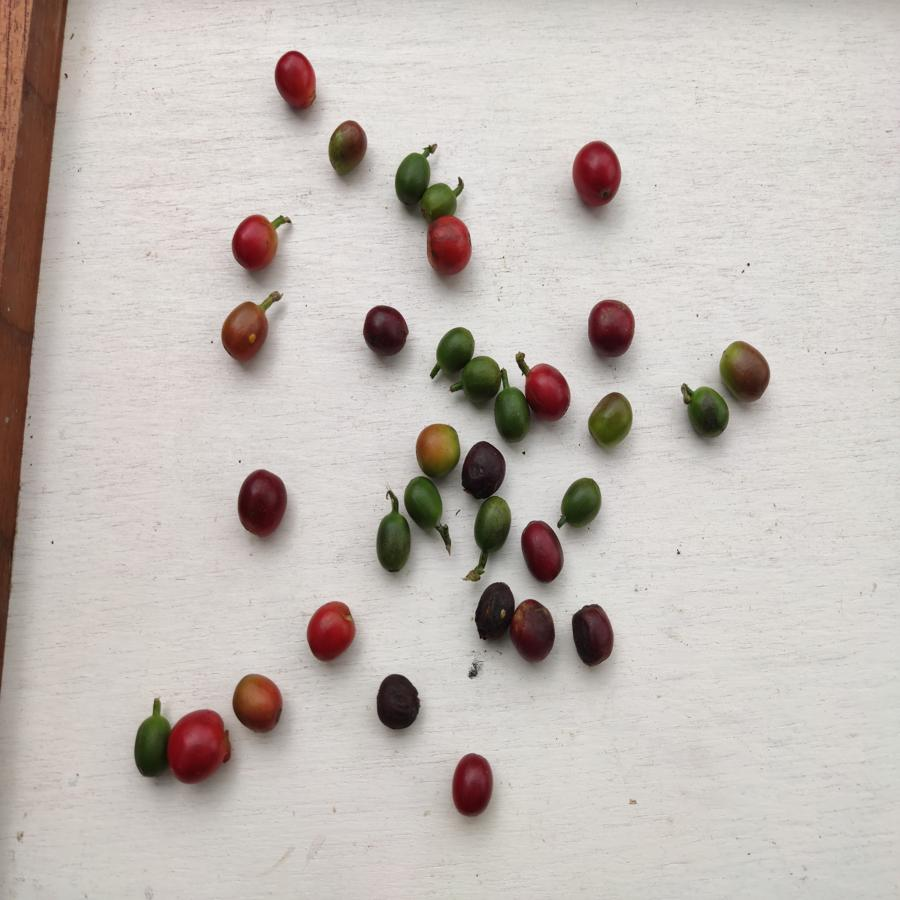Inmaduro: (371, 507, 414, 573), (132, 716, 168, 782), (687, 385, 729, 440), (473, 497, 514, 551), (493, 387, 532, 442), (432, 323, 476, 370), (406, 476, 445, 528), (458, 356, 504, 399), (394, 152, 431, 205), (562, 477, 602, 526), (419, 182, 460, 216)
Maduro: (166, 706, 231, 786), (304, 598, 356, 663), (447, 749, 495, 818), (573, 140, 622, 206), (523, 362, 575, 422), (425, 215, 474, 275), (231, 215, 278, 274), (273, 48, 318, 109)
Pinton: (232, 670, 286, 738), (718, 337, 773, 403), (219, 300, 269, 360), (412, 421, 462, 478), (588, 391, 635, 450), (327, 119, 368, 178)
Sobremaduro: (237, 469, 289, 539), (511, 598, 558, 665), (570, 602, 618, 666), (585, 300, 637, 356), (375, 672, 423, 730), (522, 520, 565, 583), (362, 302, 411, 357), (463, 441, 506, 497), (474, 582, 514, 640)
